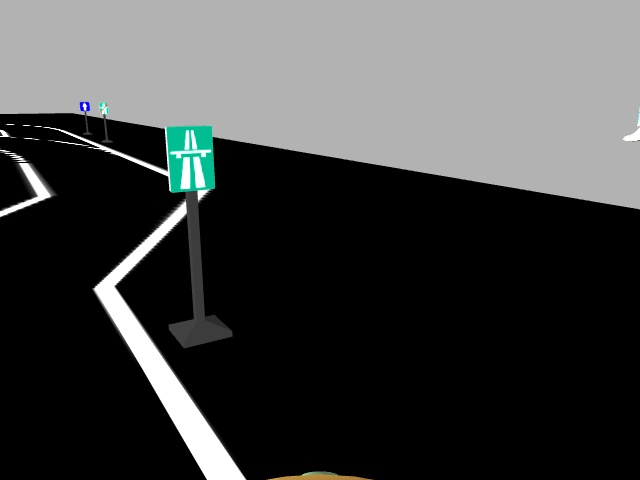HighwayEntrance: (164, 124, 215, 186)
